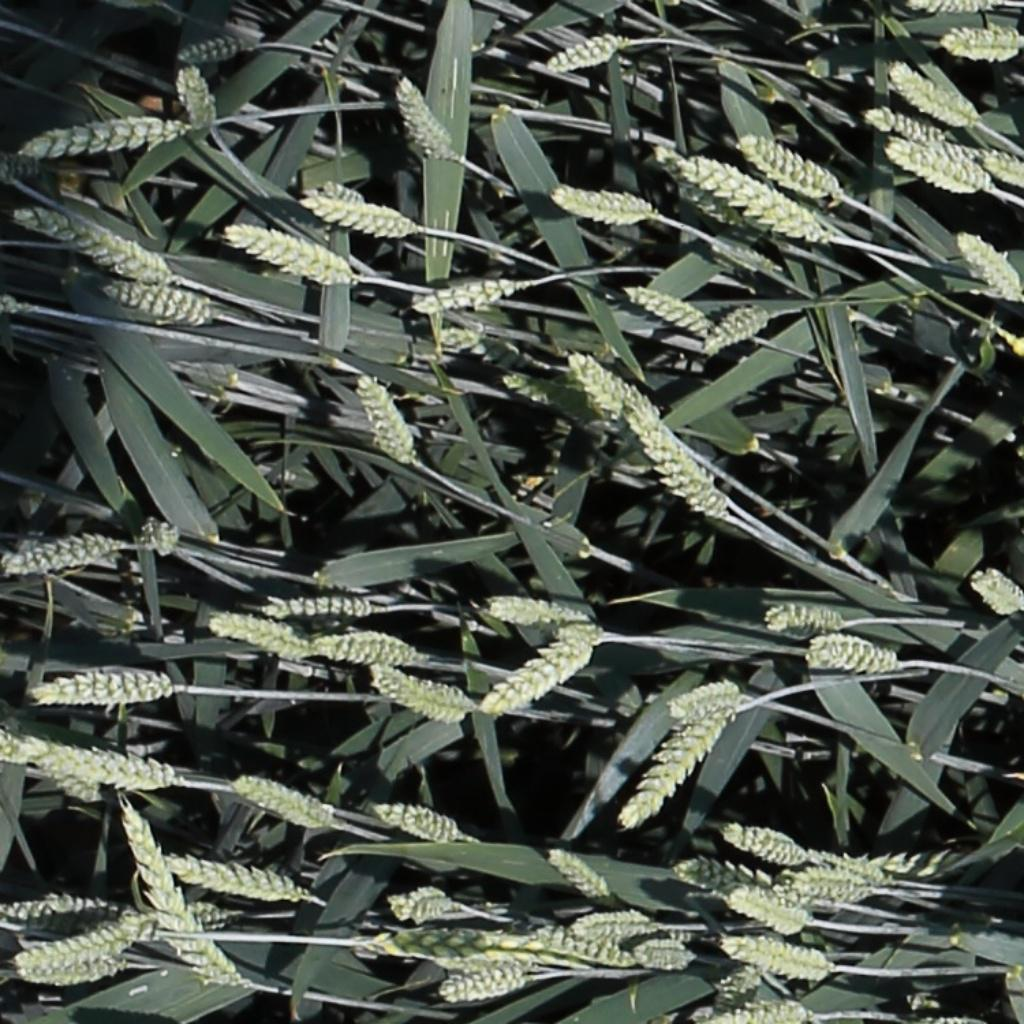0-0: (113, 801, 257, 1000), (611, 705, 739, 831), (684, 155, 846, 238), (622, 409, 730, 523), (15, 203, 166, 282), (350, 922, 581, 968), (477, 639, 608, 718), (222, 219, 357, 289), (163, 851, 308, 905), (481, 585, 605, 648), (740, 134, 845, 204), (498, 368, 613, 431), (25, 742, 173, 789), (23, 109, 183, 152), (0, 886, 138, 935), (349, 368, 415, 468), (10, 918, 150, 964), (810, 850, 973, 887), (297, 192, 419, 241), (101, 280, 217, 331), (391, 75, 456, 163), (888, 61, 977, 125), (565, 352, 652, 417), (229, 776, 333, 830), (883, 139, 989, 189), (535, 919, 638, 970), (954, 226, 1024, 301), (719, 936, 842, 978), (30, 667, 173, 703), (208, 606, 309, 656), (4, 531, 127, 572), (550, 187, 658, 233), (367, 670, 468, 719), (622, 282, 709, 333), (24, 745, 98, 804), (174, 55, 226, 138), (804, 632, 901, 673), (126, 896, 242, 930), (437, 330, 542, 367), (12, 959, 127, 992), (371, 802, 463, 843), (544, 849, 610, 903), (547, 32, 628, 76), (314, 632, 420, 664), (722, 826, 806, 866), (862, 106, 946, 146), (726, 894, 812, 933), (690, 997, 814, 1024), (408, 279, 512, 311), (781, 869, 881, 901), (667, 675, 743, 715), (673, 861, 771, 892), (707, 962, 764, 1015), (712, 236, 782, 279), (439, 970, 530, 1003), (699, 307, 768, 350), (964, 565, 1024, 614), (382, 885, 460, 922), (259, 592, 384, 615), (763, 601, 845, 633), (633, 935, 699, 974), (569, 907, 657, 935), (139, 512, 184, 560), (174, 38, 243, 62), (980, 150, 1024, 184), (940, 36, 1024, 53), (1, 150, 40, 174)
